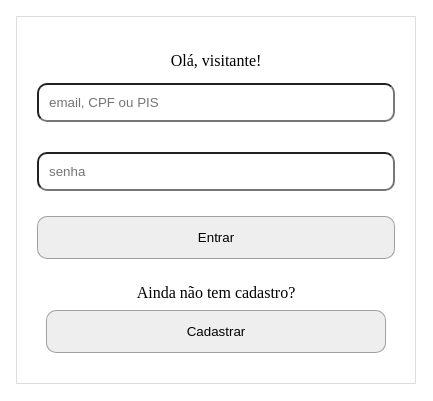
Test: failed to login
Step 1. Click the button "Entrar" → x=216, y=238, box [37, 216, 395, 259]
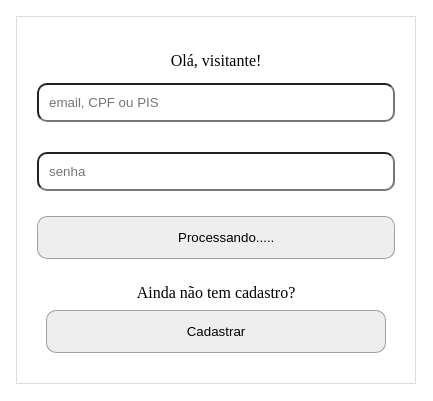
Expected: the button "Processando....." is shown, [37, 216, 395, 259]
